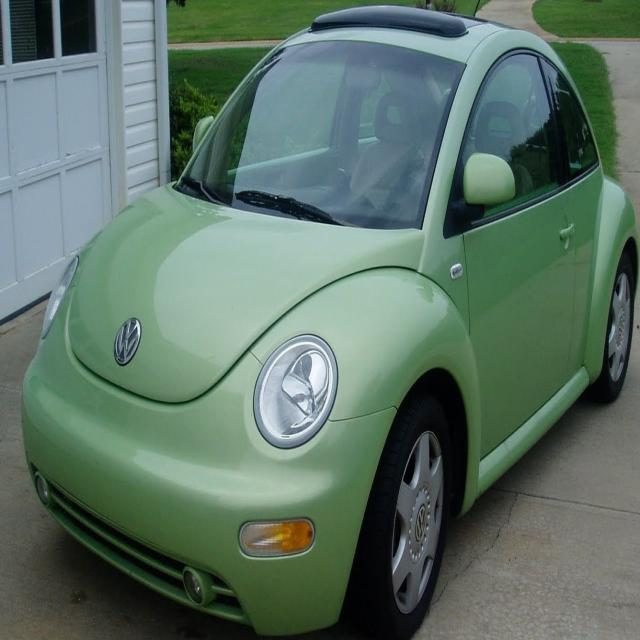green: (21, 0, 640, 640)
